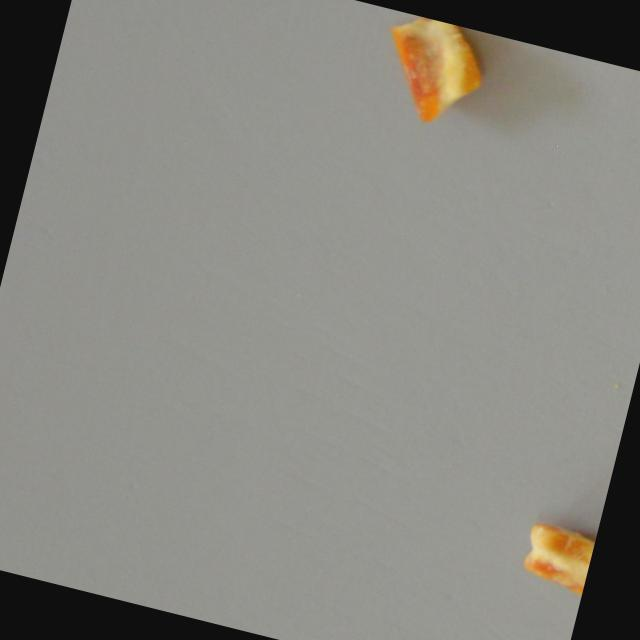dañado: (368, 8, 496, 136), (511, 509, 598, 600)
